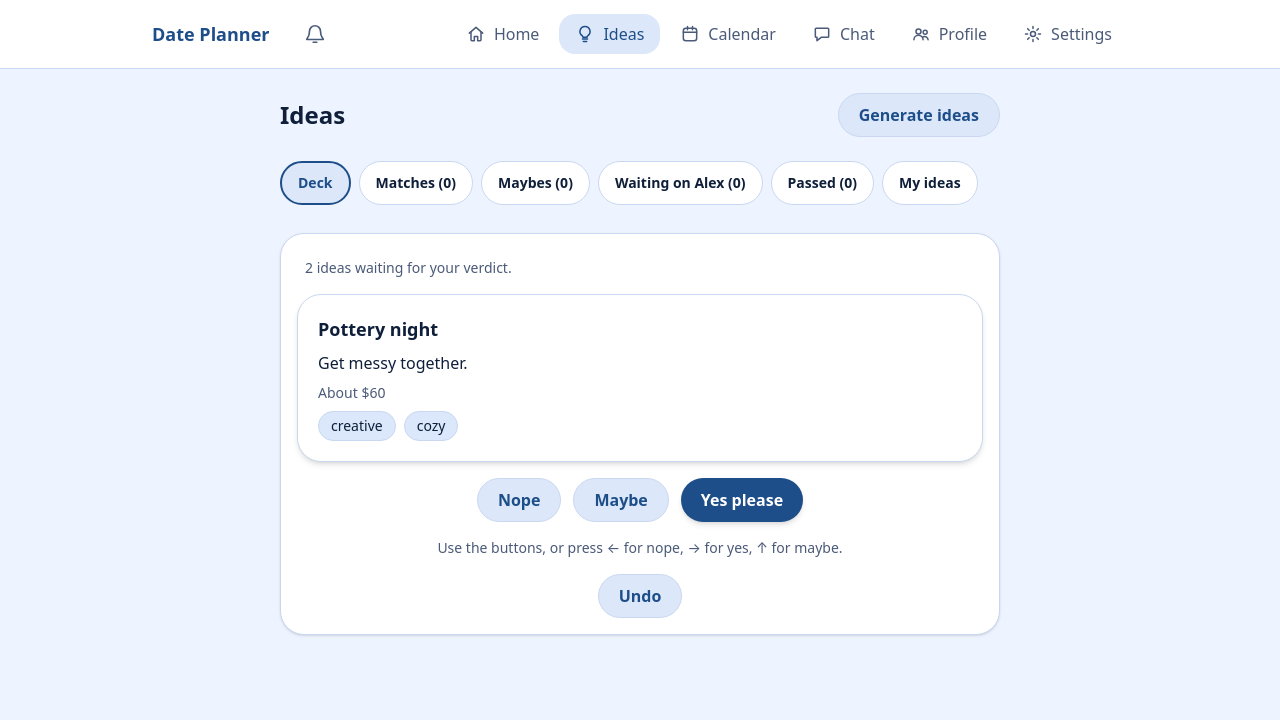
Test: IdeasPage deck › shows a static, dismissible match overlay under reduced motion
The image size is (1280, 720).
Check: the heading "Pottery night" is shown, box [318, 317, 438, 341]
Click the button "Yes please".
click(742, 500)  # box [681, 478, 803, 522]
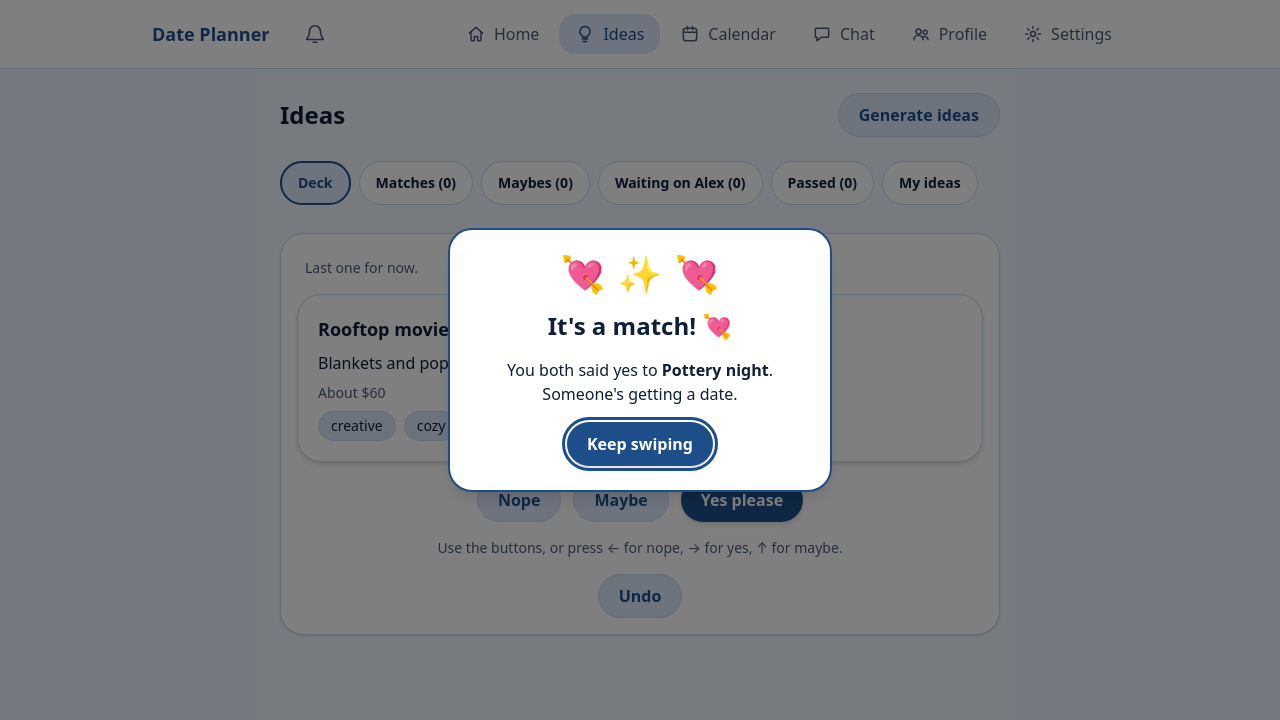
Check: the text "Pottery night" is shown, box [662, 359, 769, 381]
Press Escape
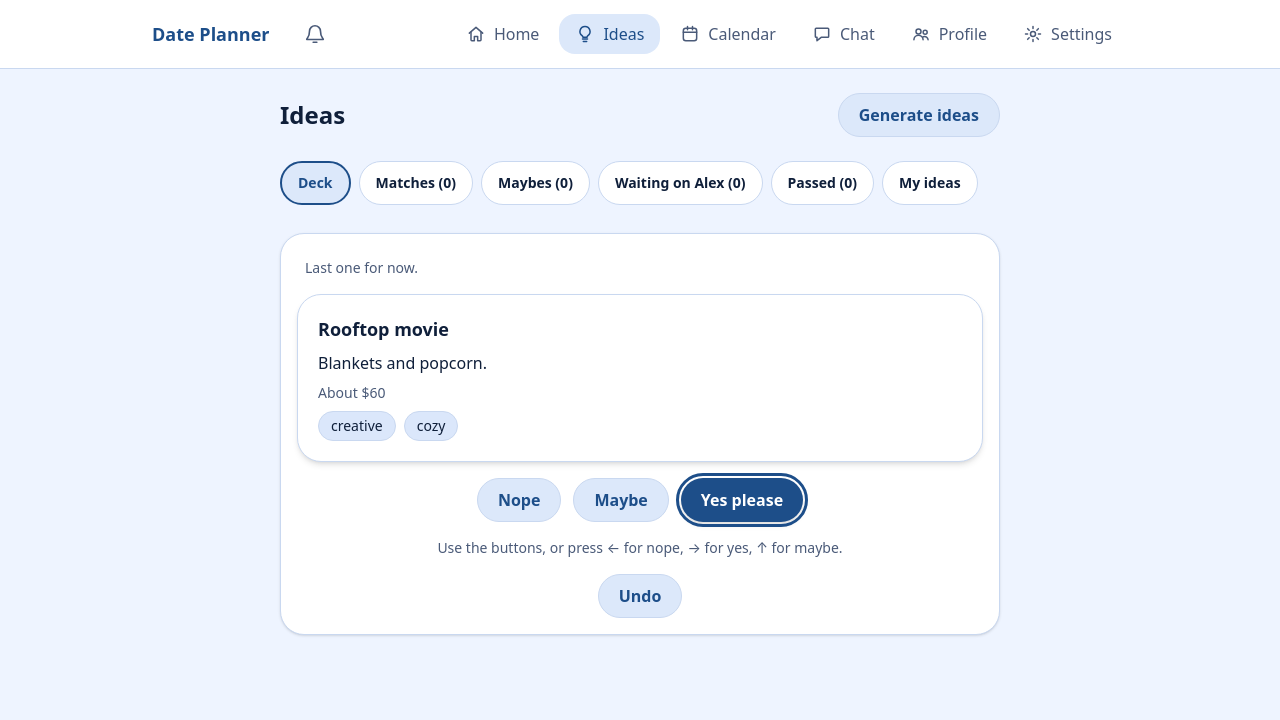
Check: the dialog is gone
